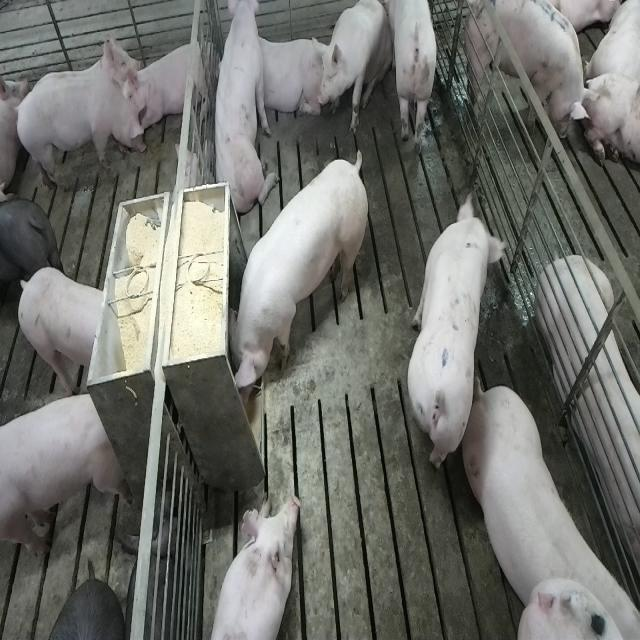Feeding: (220, 148, 366, 396)
Sitting: (210, 4, 272, 220), (318, 2, 392, 138)
Standing: (405, 190, 508, 479), (1, 386, 126, 564), (462, 0, 591, 138), (14, 78, 147, 192), (15, 265, 106, 399), (386, 2, 440, 156), (0, 188, 56, 314)
Sternal_lying: (538, 252, 640, 582), (206, 491, 302, 640), (131, 34, 211, 134), (248, 34, 330, 120)
